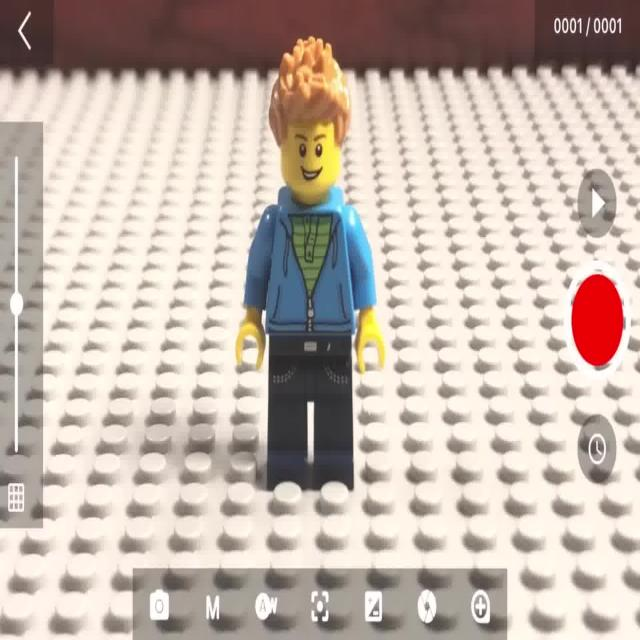4: (344, 211, 385, 380), (238, 200, 274, 380)
hand: (234, 38, 385, 491)
